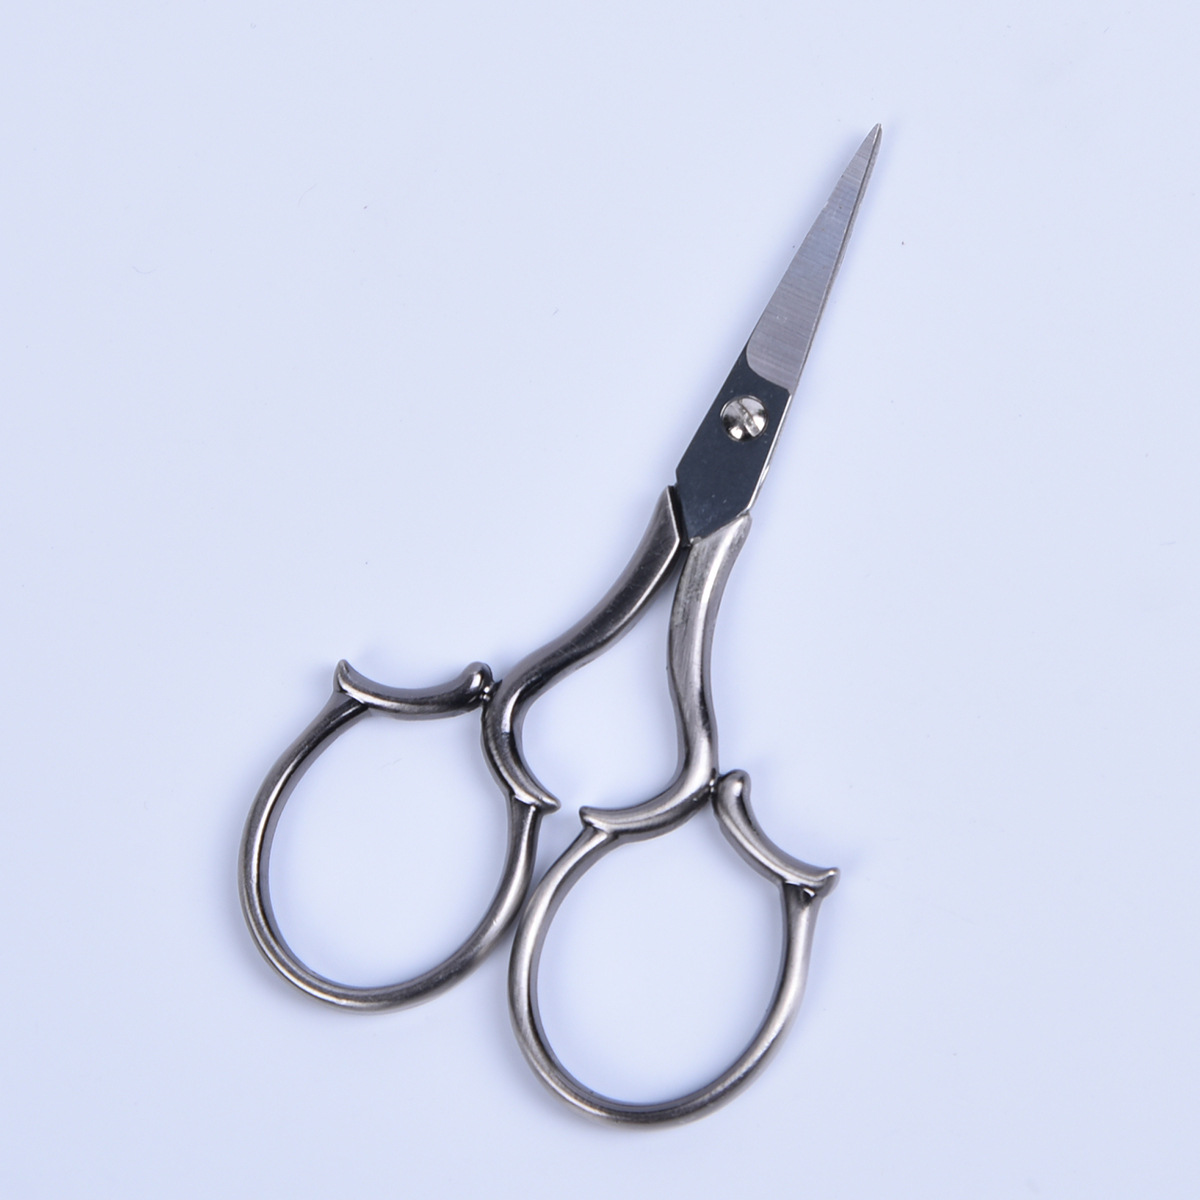scissors: (224, 115, 937, 1147)
